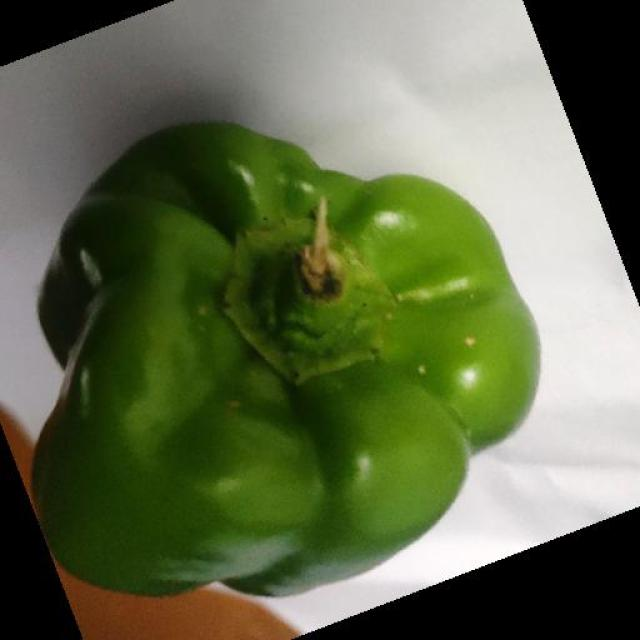Fresh_Capsicum: (158, 182, 479, 486)
